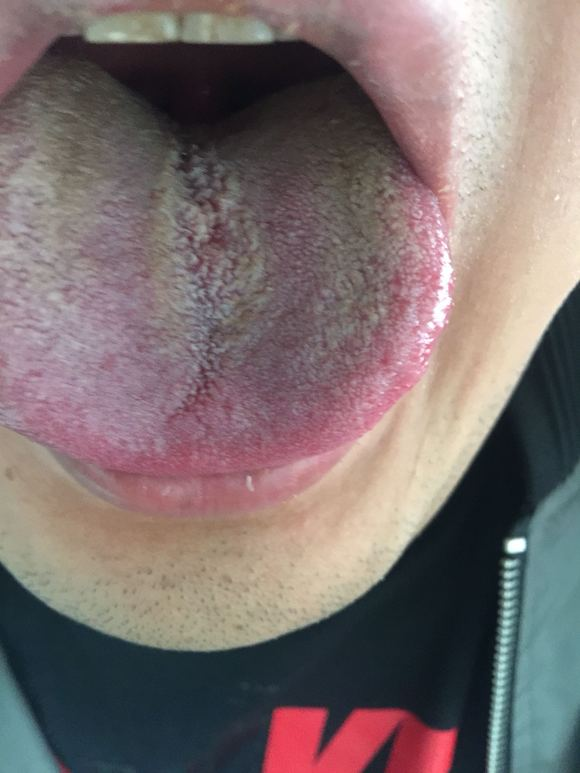huangtaishe: (1, 50, 452, 477)
liewenshe: (168, 131, 236, 433)
pangdashe: (1, 51, 451, 478)
shenquao: (60, 51, 336, 135)
